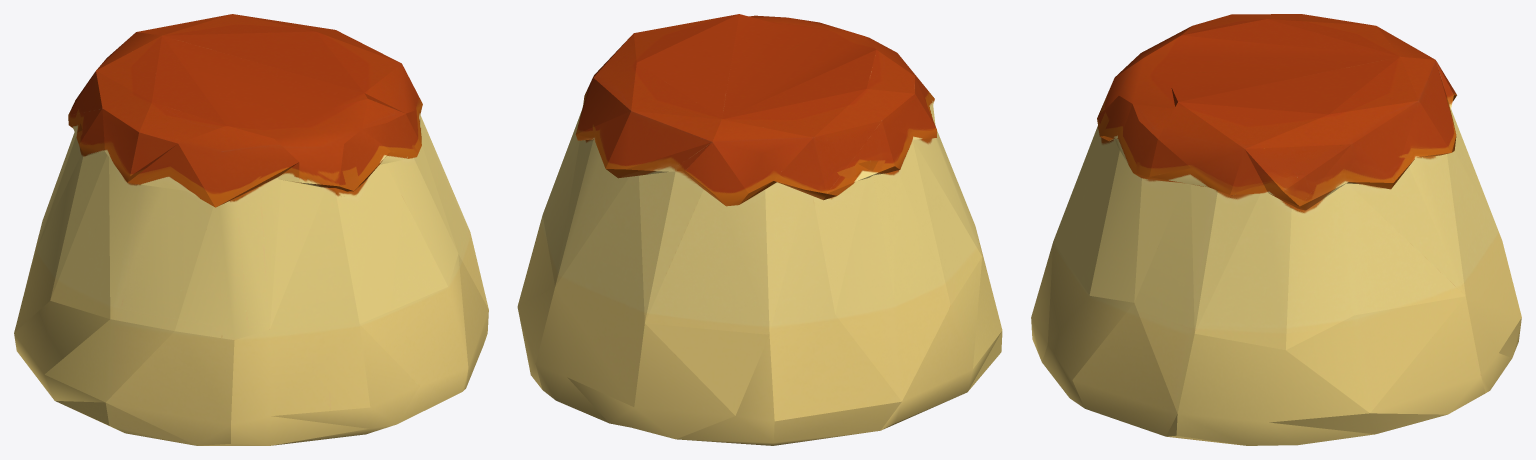
File: source.fbx
3 views of the same model, side by side, from view 1: azimuth 30°, elevation 25°; view 2: azimuth 150°, elevation 25°; view 3: azimuth 270°, elevation 25° (orthographic). The views are drawn at different scales.
Visible parts, largest first — view 1: output_unwrapped; view 2: output_unwrapped; view 3: output_unwrapped.
Part boxes in pixels (x1,y1,x2,y2): output_unwrapped: [14, 14, 488, 445]; output_unwrapped: [517, 14, 1002, 445]; output_unwrapped: [1031, 14, 1521, 445].
Size of the model in its own units: 27.93 by 18 by 28.24.
Materials: 1 (1 with a texture image).
